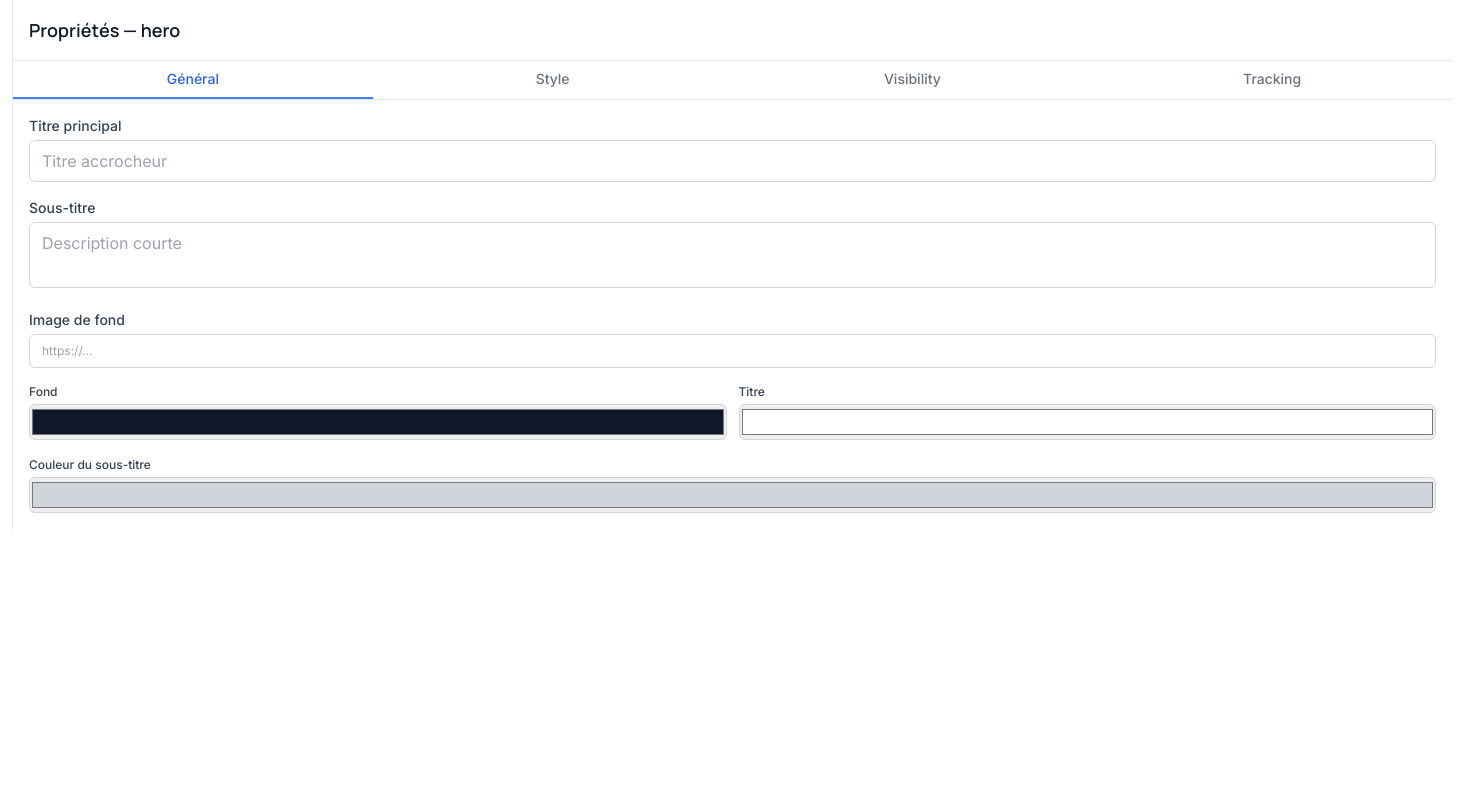
it: PropertiesPanel › affiche les contrôles de style
Click the button "Style" at (553, 80), box left=373, top=61, right=733, bottom=99
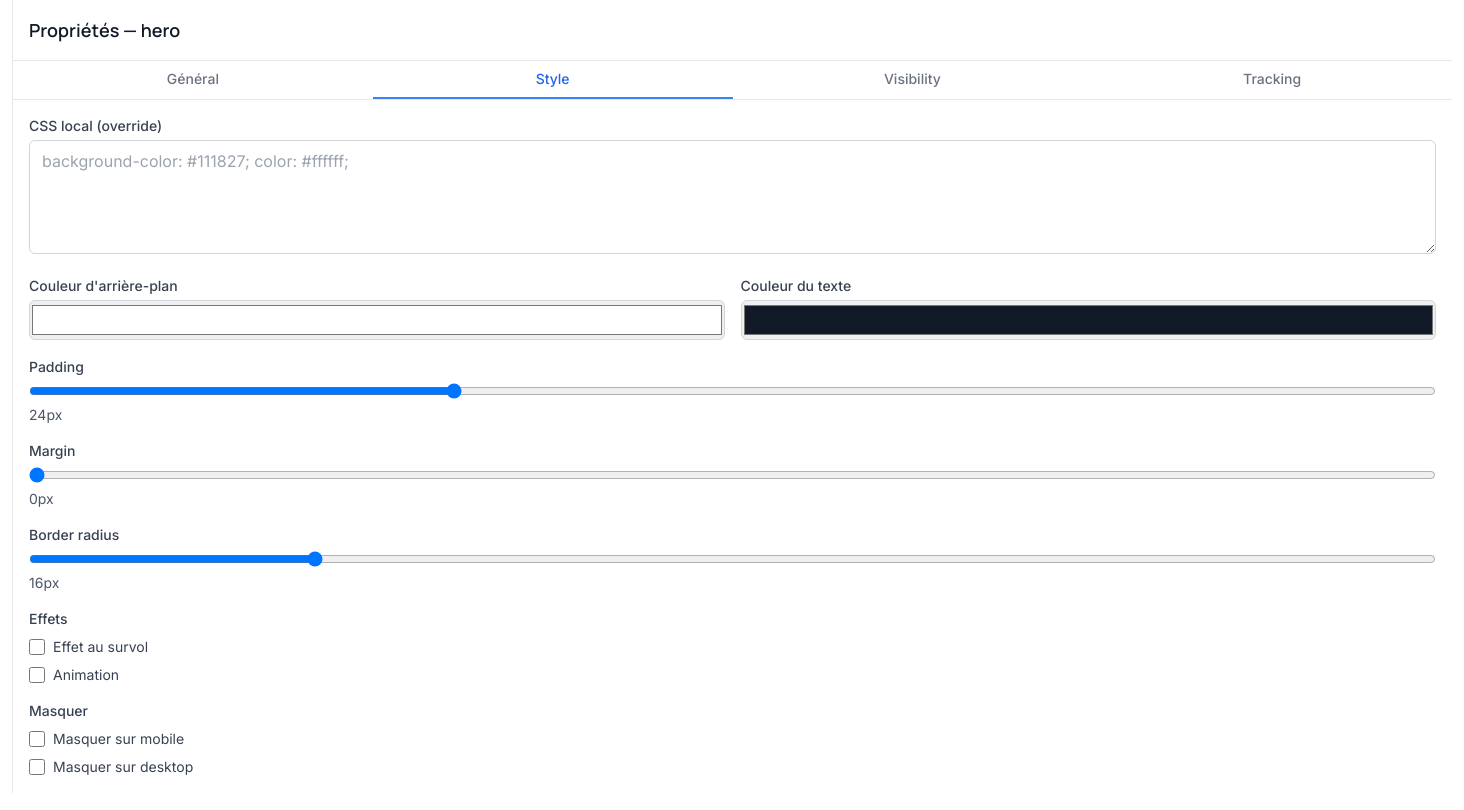
Check: the colour field labelled "Couleur d'arrière-plan" is shown, box left=29, top=300, right=724, bottom=340
Check: the colour field labelled "Couleur du texte" is shown, box left=740, top=300, right=1436, bottom=340
Check: the slider labelled "Padding" is shown, box left=29, top=383, right=1436, bottom=399
